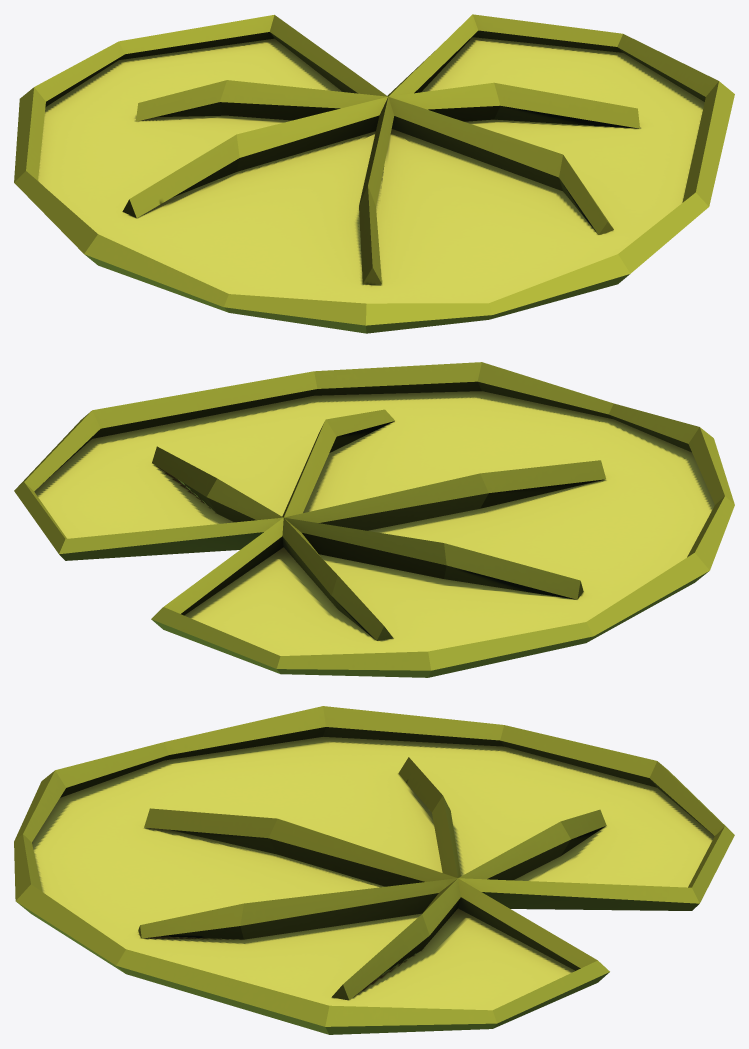
The model's file is PUSHILIN_lily_pad.obj.
3 views of the same model, one above another, from view 1: azimuth 30°, elevation 25°; view 2: azimuth 150°, elevation 25°; view 3: azimuth 270°, elevation 25° (orthographic). The views are drawn at different scales.
Visible parts, largest first — view 1: lily_pad; view 2: lily_pad; view 3: lily_pad.
Boxes of the visible parts, left/top/right/bottom form: lily_pad: left=14, top=14, right=734, bottom=333; lily_pad: left=14, top=362, right=734, bottom=677; lily_pad: left=14, top=706, right=734, bottom=1034.
Bounding box in the file's own units: 1.59 × 0.0877 × 1.56.
Materials: 1 (1 with a texture image).
